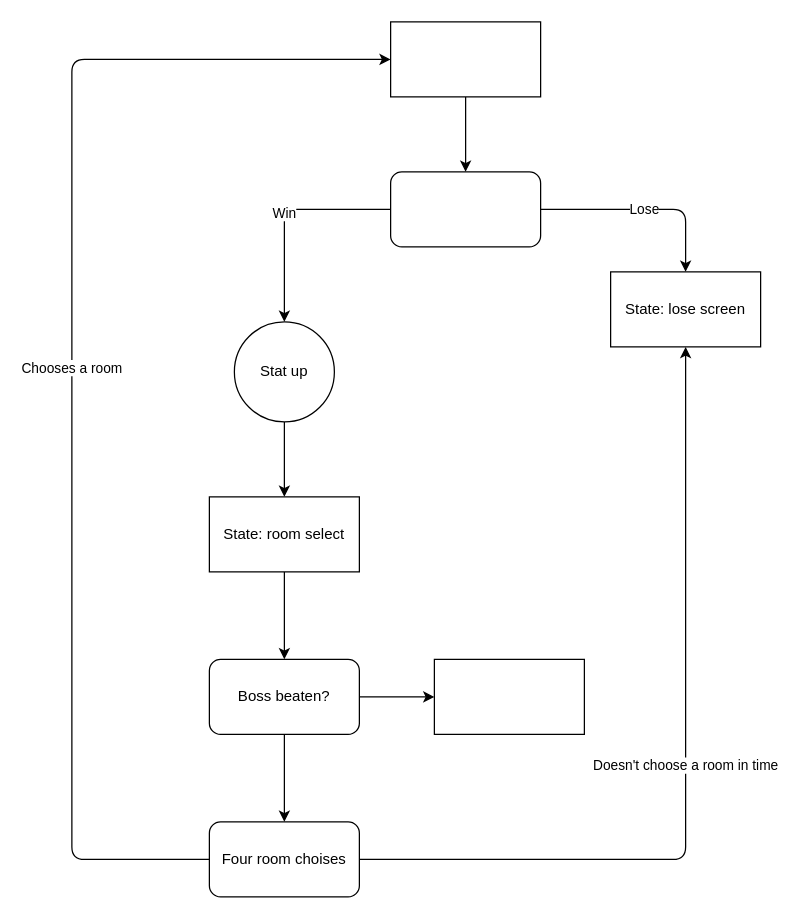
This 800x919 diagram has some shape labels left out. The centre of each missing label's shape, as x and y in pixels:
Fight: point (465, 209)
State: room: point (465, 59)
State: win screen: point (508, 696)
